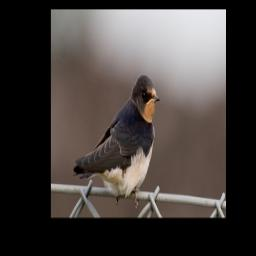Swallow: (72, 72, 160, 208)
